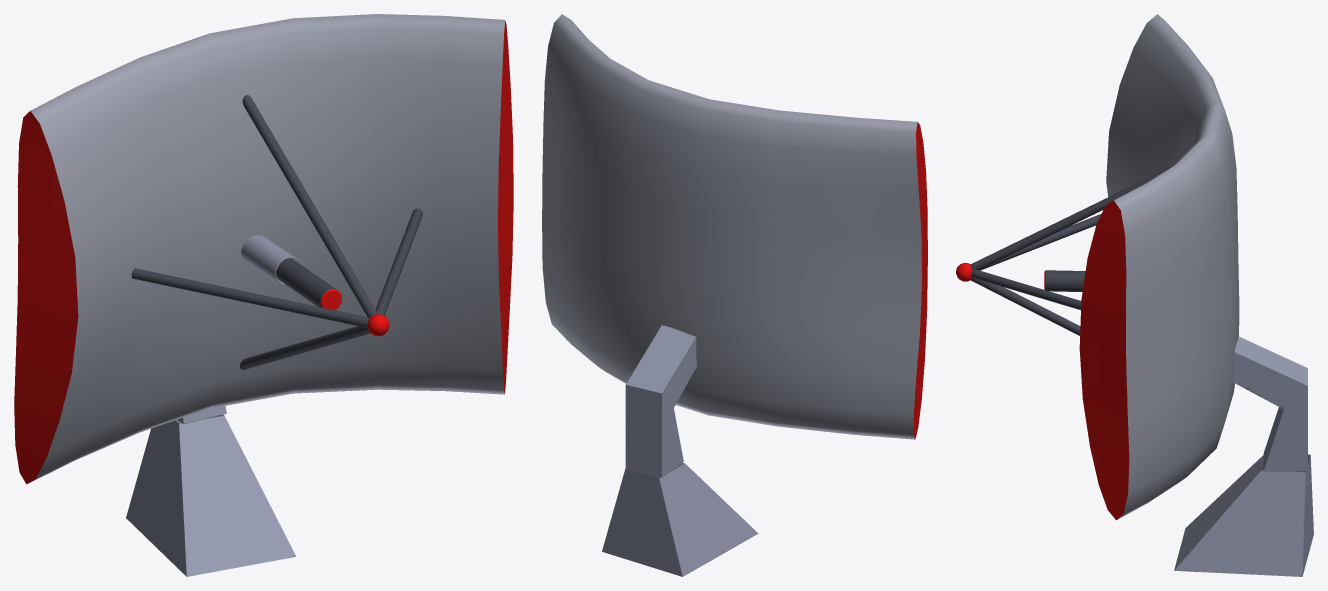
File: Radar_Dish_Animation.fbx
3 renders of one model, left to right at view 1: azimuth 30°, elevation 25°; view 2: azimuth 150°, elevation 25°; view 3: azimuth 270°, elevation 25°, orthographic. The views are drawn at different scales.
Visible parts, largest first — view 1: radarDish, radarBase; view 2: radarDish, radarBase; view 3: radarDish, radarBase.
Part boxes in pixels (box(x1,y1,x2,y2)): radarDish: box(14, 14, 513, 484); radarBase: box(126, 414, 296, 576); radarDish: box(542, 14, 927, 477); radarBase: box(602, 463, 758, 576); radarDish: box(956, 14, 1307, 520); radarBase: box(1174, 454, 1313, 576).
Size of the model in its own units: 8.84 by 9.28 by 6.8.
